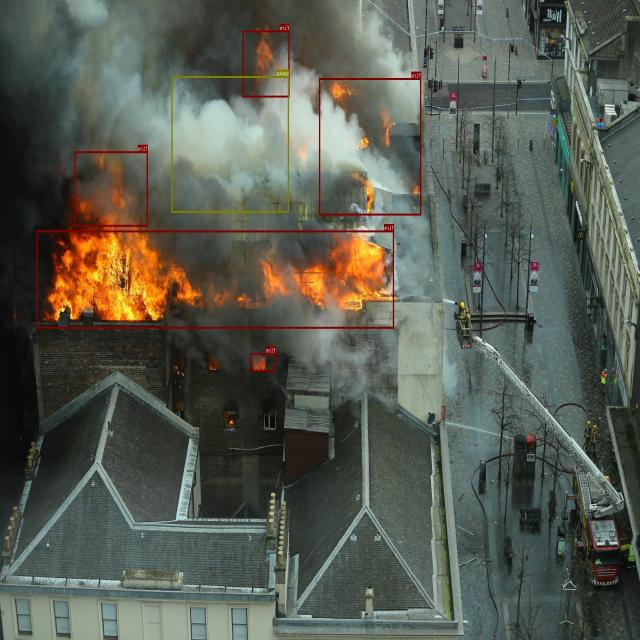fire: (37, 230, 394, 328), (319, 78, 422, 215), (75, 151, 148, 226), (243, 30, 290, 97), (251, 352, 276, 372)
smoke: (172, 76, 289, 212)
